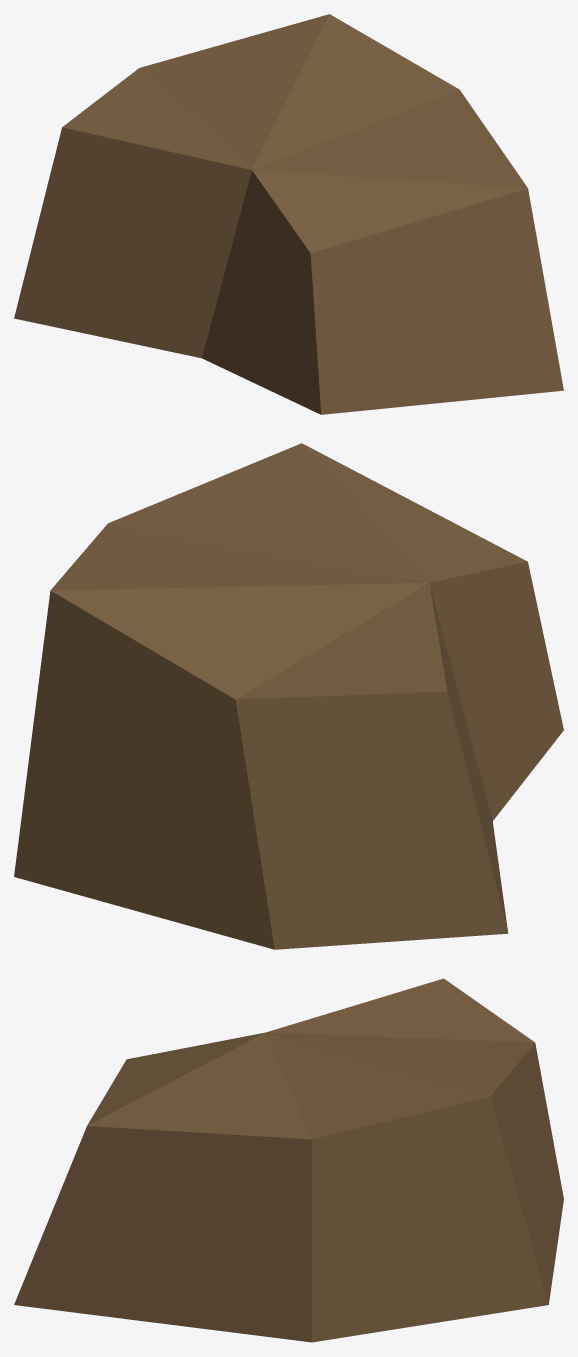
File: FlatRock-C03.fbx
The picture shows the model from 3 angles, top to bottom: view 1: azimuth 30°, elevation 25°; view 2: azimuth 150°, elevation 25°; view 3: azimuth 270°, elevation 25°; orthographic projection. The views are drawn at different scales.
Parts seen in each view (by area): view 1: FlatRock-C03; view 2: FlatRock-C03; view 3: FlatRock-C03.
Part boxes in pixels (box(x1,y1,x2,y2)): FlatRock-C03: box(14, 14, 563, 414); FlatRock-C03: box(14, 443, 563, 949); FlatRock-C03: box(14, 978, 563, 1342).
Size of the model in its own units: 116 by 54.84 by 131.
